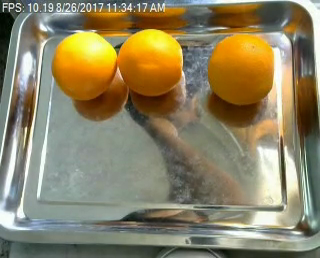Orange: (206, 34, 275, 105), (116, 28, 181, 97), (51, 33, 116, 100)
